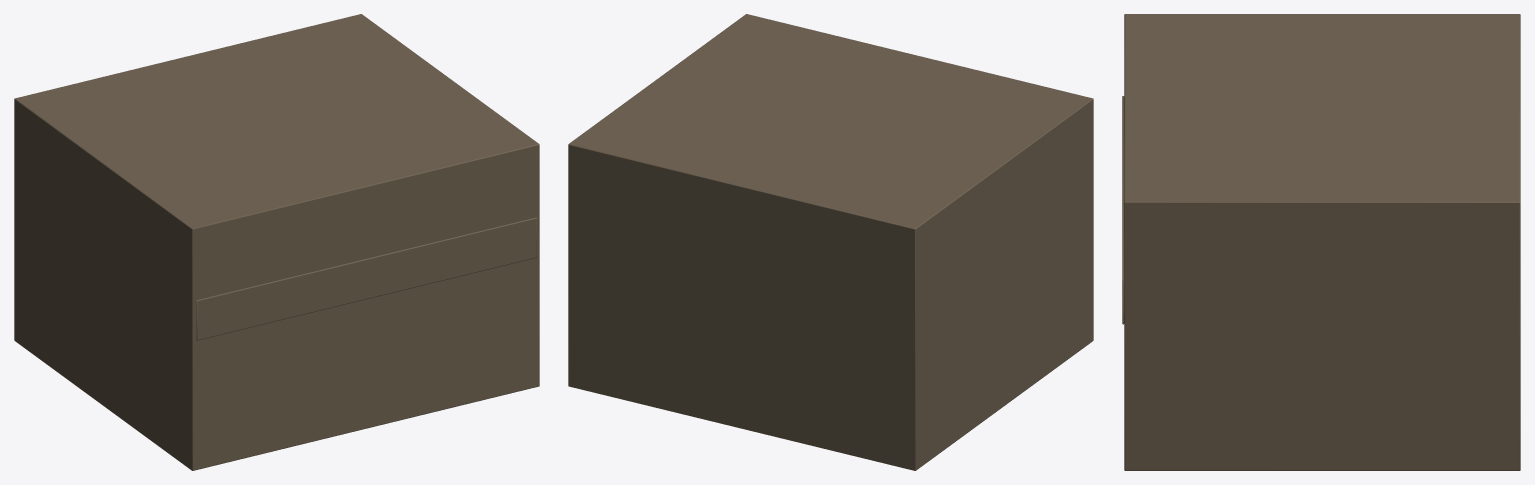
3 renders of one model, left to right at view 1: azimuth 30°, elevation 25°; view 2: azimuth 150°, elevation 25°; view 3: azimuth 270°, elevation 25°, orthographic. The views are drawn at different scales.
Visible parts, largest first — view 1: SM_F_Box_B__Body; view 2: SM_F_Box_B__Body; view 3: SM_F_Box_B__Body.
Boxes of the visible parts, box(x1,y1,x2,y2) form: SM_F_Box_B__Body: box(14, 14, 539, 470); SM_F_Box_B__Body: box(568, 14, 1093, 470); SM_F_Box_B__Body: box(1122, 14, 1520, 470).
Bounding box in the file's own units: 0.45 × 0.3 × 0.402.
